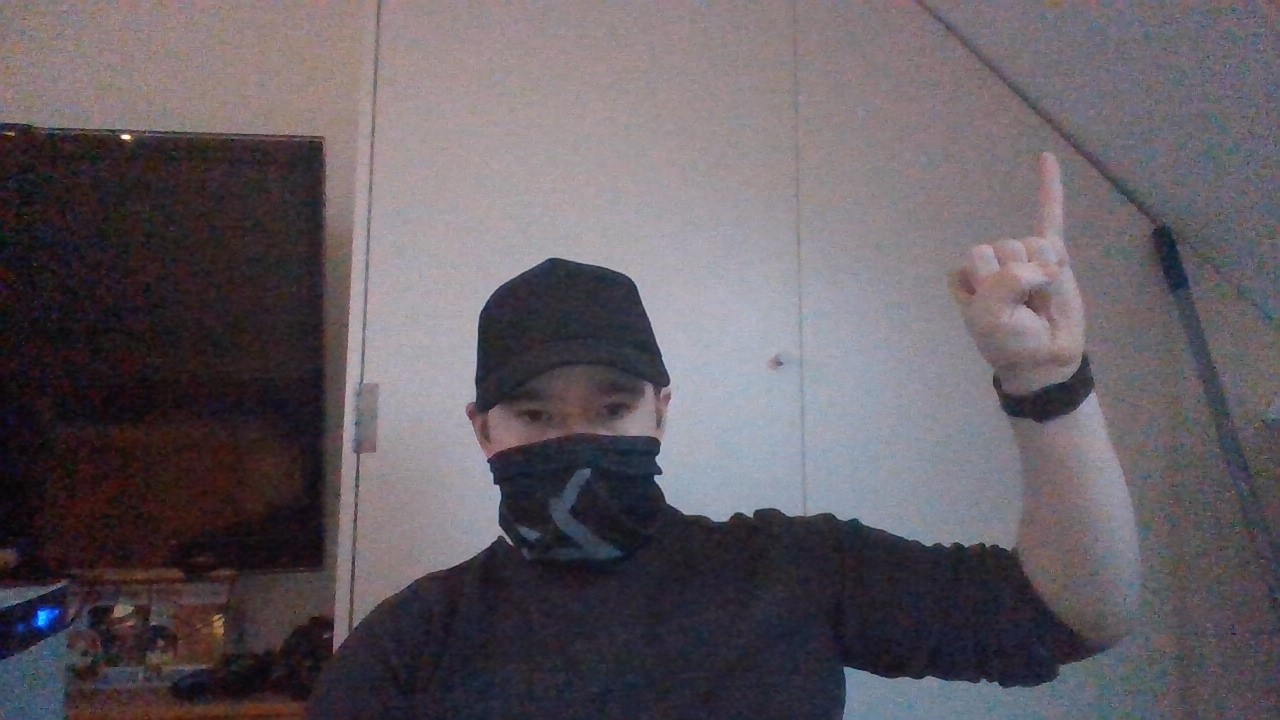I" Sign language: (944, 143, 1100, 376)
